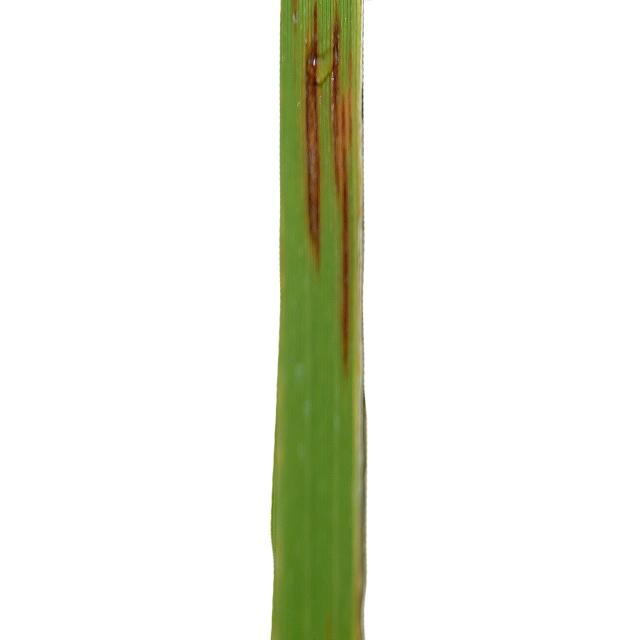Narrow brown: (216, 0, 489, 640)
